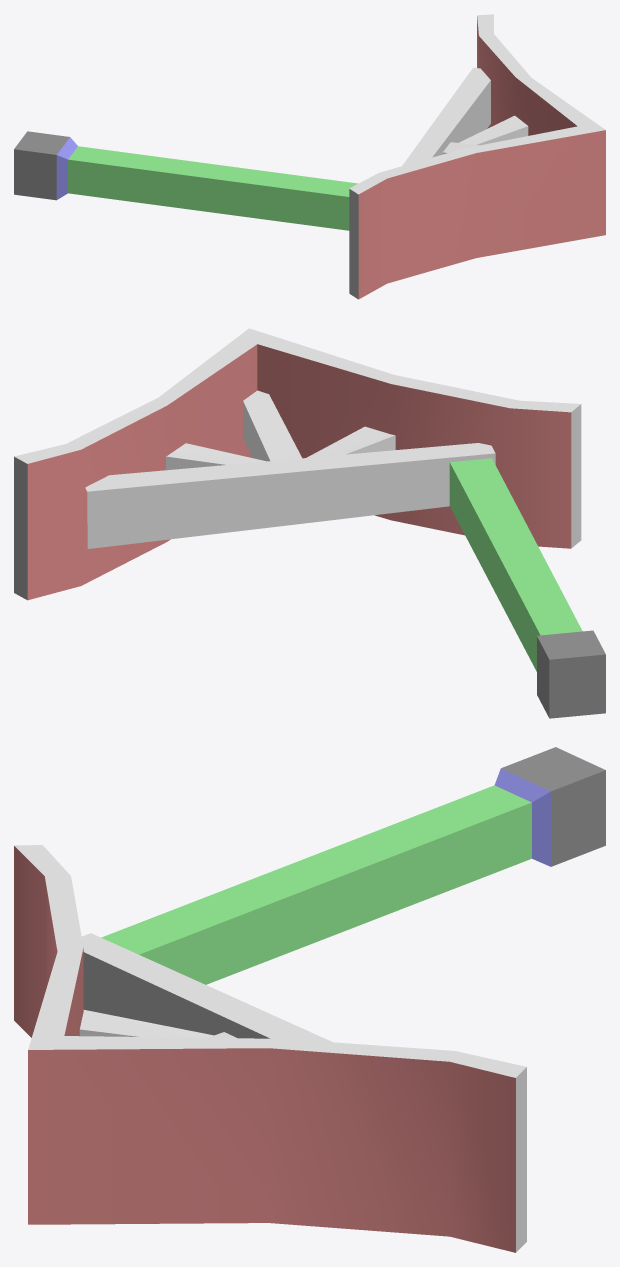
Rendered from Field_Deco_Artifact_S__world_obj12.gltf.
3 renders of one model, top to bottom at view 1: azimuth 30°, elevation 25°; view 2: azimuth 150°, elevation 25°; view 3: azimuth 270°, elevation 25°, orthographic. The views are drawn at different scales.
Visible parts, largest first — view 1: world_obj12; view 2: world_obj12; view 3: world_obj12.
Boxes of the visible parts, <box> form: world_obj12: <box>14,14,605,299</box>; world_obj12: <box>14,328,605,718</box>; world_obj12: <box>14,747,605,1252</box>.
Bounding box in the file's own units: 1.09 × 0.2333 × 0.7156.
